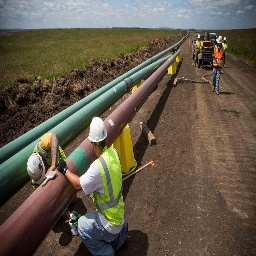helmet: (26, 153, 46, 185), (87, 114, 108, 143), (216, 33, 223, 46)
person: (75, 115, 127, 255), (211, 33, 225, 95), (194, 33, 202, 69)
vest: (93, 150, 127, 227), (213, 45, 225, 69)
